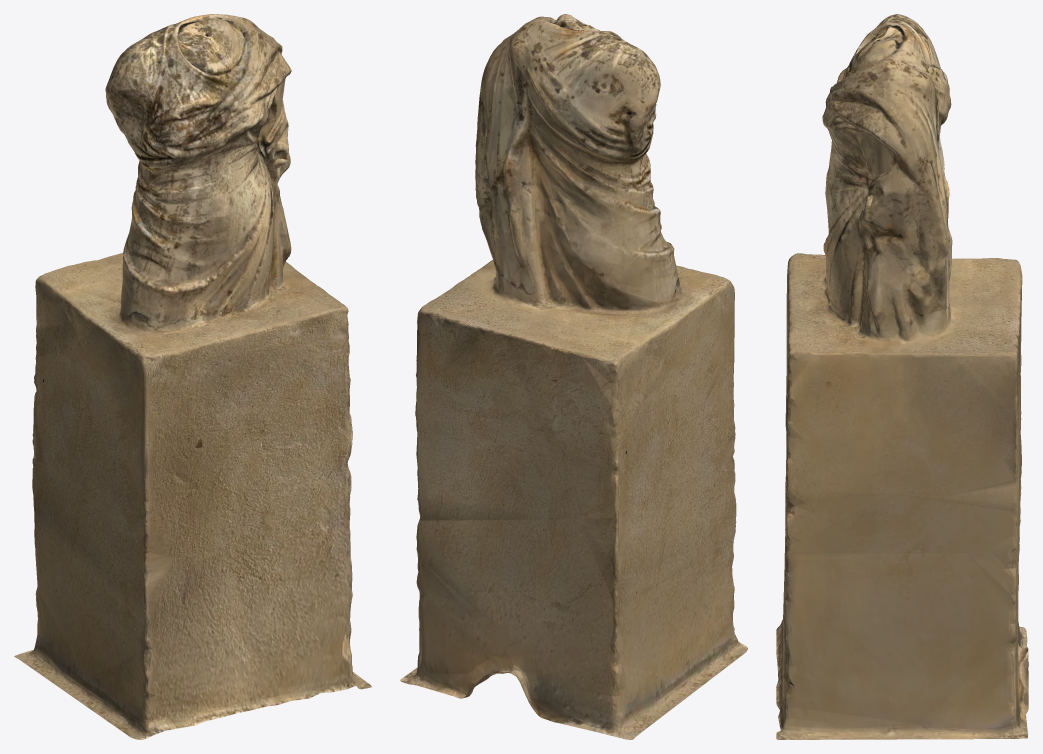
File: statue-fragment.glb
3 views of the same model, side by side, from view 1: azimuth 30°, elevation 25°; view 2: azimuth 150°, elevation 25°; view 3: azimuth 270°, elevation 25° (orthographic).
Parts seen in each view (by area): view 1: Object_2; view 2: Object_2; view 3: Object_2.
Part boxes in pixels (x1,y1,x2,y2): Object_2: (14, 14, 371, 739); Object_2: (400, 14, 747, 739); Object_2: (776, 14, 1028, 739).
Bounding box in the file's own units: 0.5907 × 1.56 × 0.545.
1 material, 1 textured.
